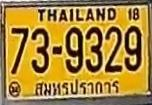2: (104, 26, 122, 72)
3: (85, 26, 102, 72), (31, 27, 48, 72)
7: (11, 27, 28, 73)
9: (65, 26, 82, 72), (124, 25, 141, 70)
SPK: (30, 75, 123, 100)
